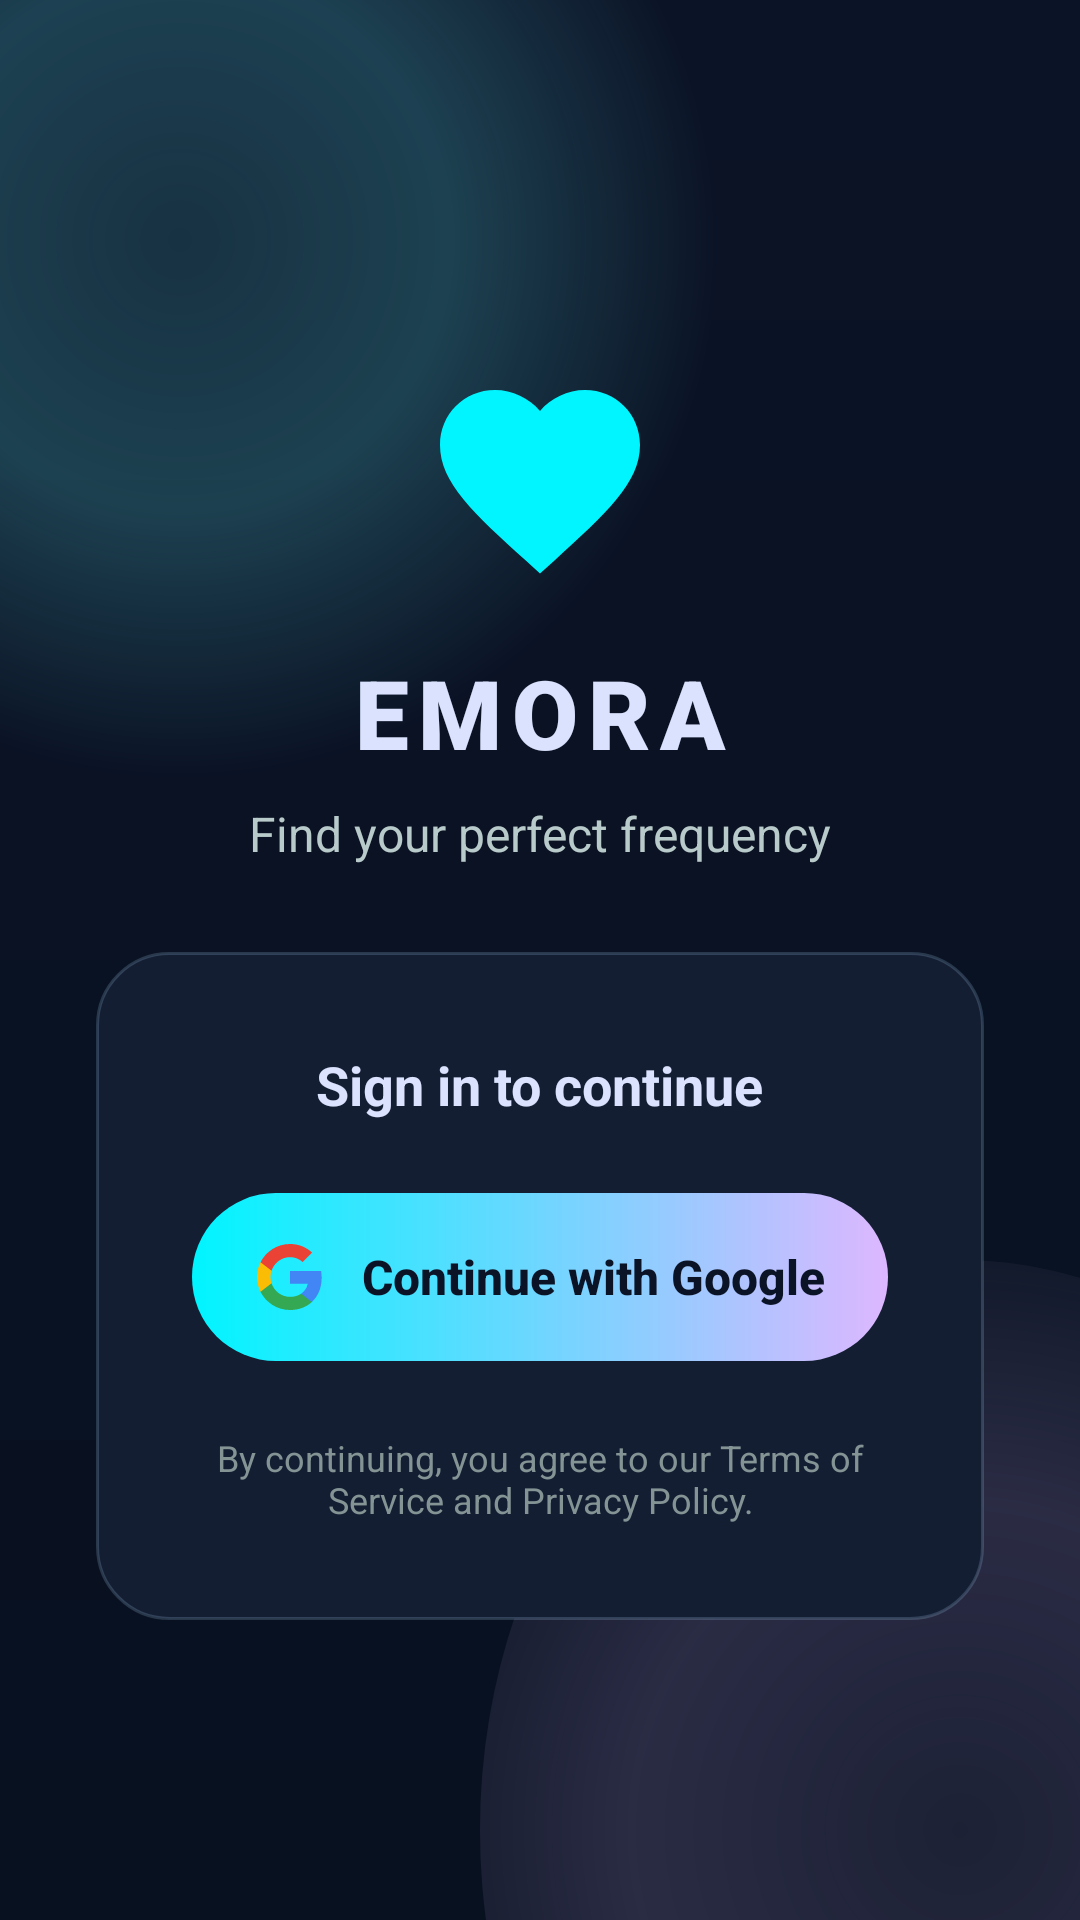

Icons on this 1080×1920 Android screen, each with the point to tap as [x,y]:
heart: [530,467]
